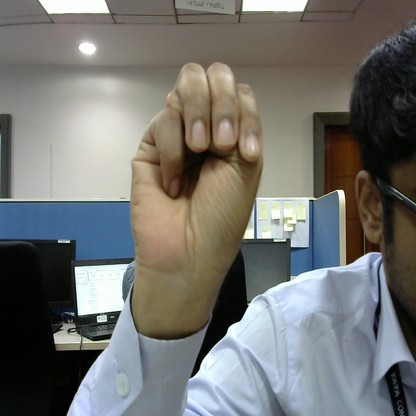m: (121, 56, 267, 282)
